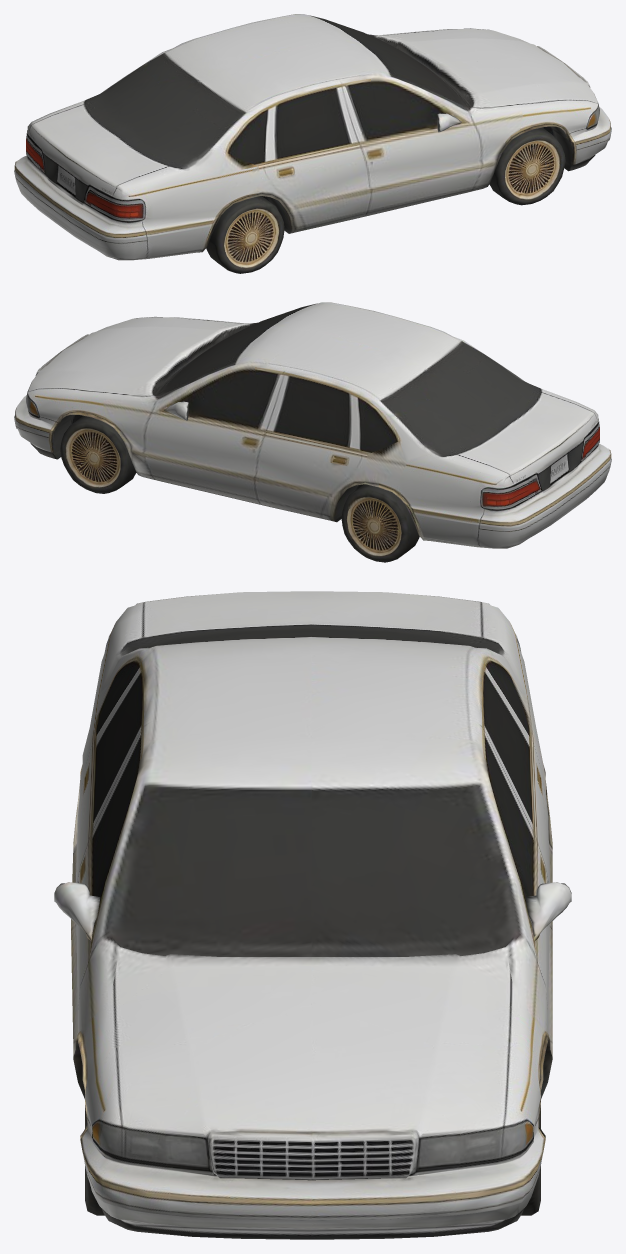
Rendered from luxcar.glb.
The picture shows the model from 3 angles, top to bottom: view 1: azimuth 30°, elevation 25°; view 2: azimuth 150°, elevation 25°; view 3: azimuth 270°, elevation 25°; orthographic projection. The views are drawn at different scales.
Visible parts, largest first — view 1: tripo_node_bda1baee-caaf-4bea-bbb5-47674cbd47ab; view 2: tripo_node_bda1baee-caaf-4bea-bbb5-47674cbd47ab; view 3: tripo_node_bda1baee-caaf-4bea-bbb5-47674cbd47ab.
Part boxes in pixels (<box>): tripo_node_bda1baee-caaf-4bea-bbb5-47674cbd47ab: <box>14,14,611,273</box>; tripo_node_bda1baee-caaf-4bea-bbb5-47674cbd47ab: <box>14,302,611,562</box>; tripo_node_bda1baee-caaf-4bea-bbb5-47674cbd47ab: <box>54,591,571,1239</box>.
Bounding box in the file's own units: 0.998 × 0.2949 × 0.4277.
Materials: 1 (1 with a texture image).
